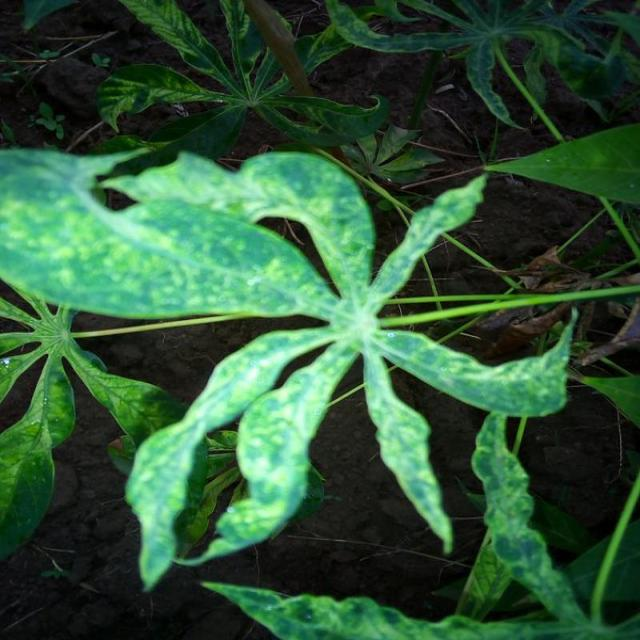cassava leaf: (2, 142, 579, 590), (1, 143, 345, 321)
